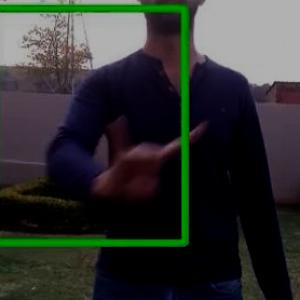takeoff-hand: (100, 108, 210, 209)
